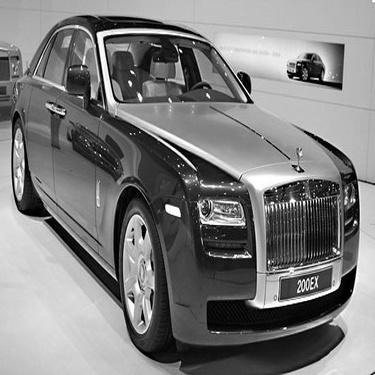car: (20, 8, 359, 360)
